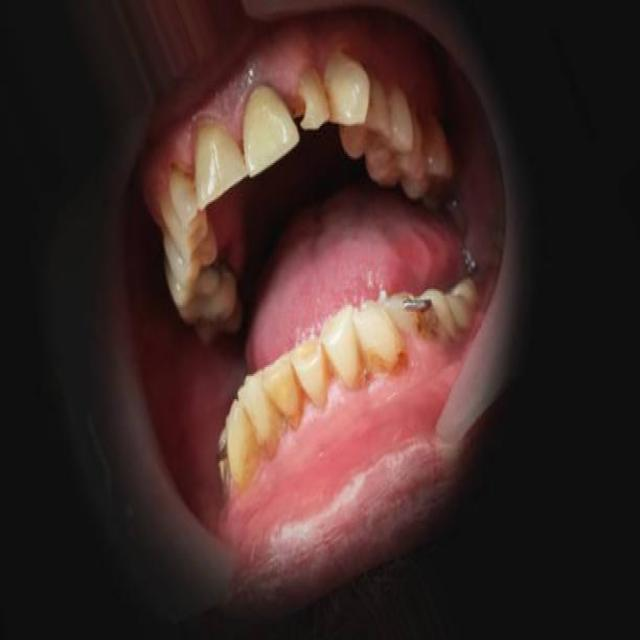caries: (283, 56, 329, 152), (190, 230, 240, 308), (231, 412, 265, 484), (167, 146, 201, 217), (283, 381, 320, 440), (362, 351, 422, 387), (264, 403, 292, 471), (413, 300, 445, 349)
